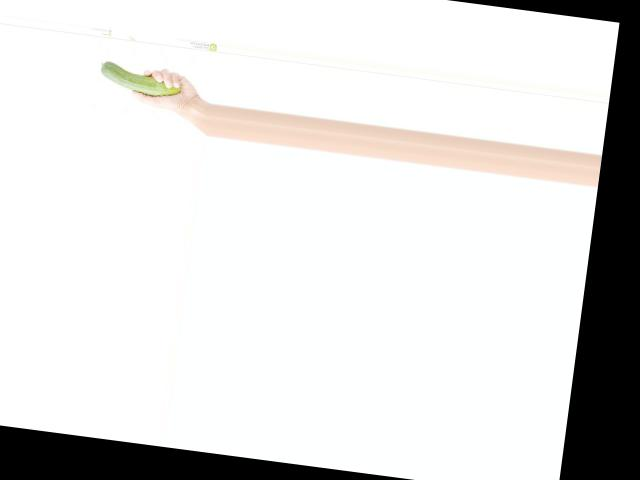cucumber: (98, 60, 182, 97)
